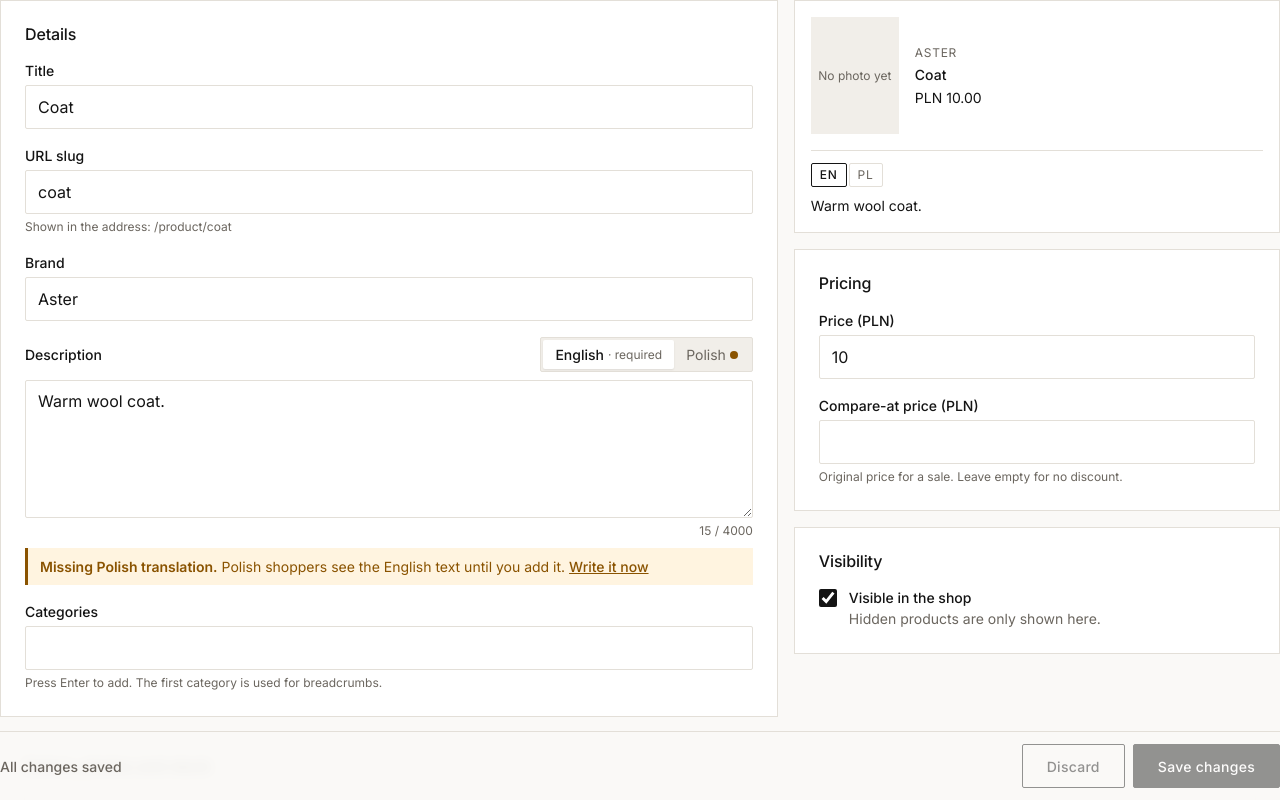
Test: ProductForm › description in English and Polish › shows the preview in the language of the open tab, falling back to English
Check: the text "Warm wool coat." is shown, box left=811, top=197, right=922, bottom=214
Step 1. Click the button "PL" → (866, 175), box left=849, top=163, right=882, bottom=187
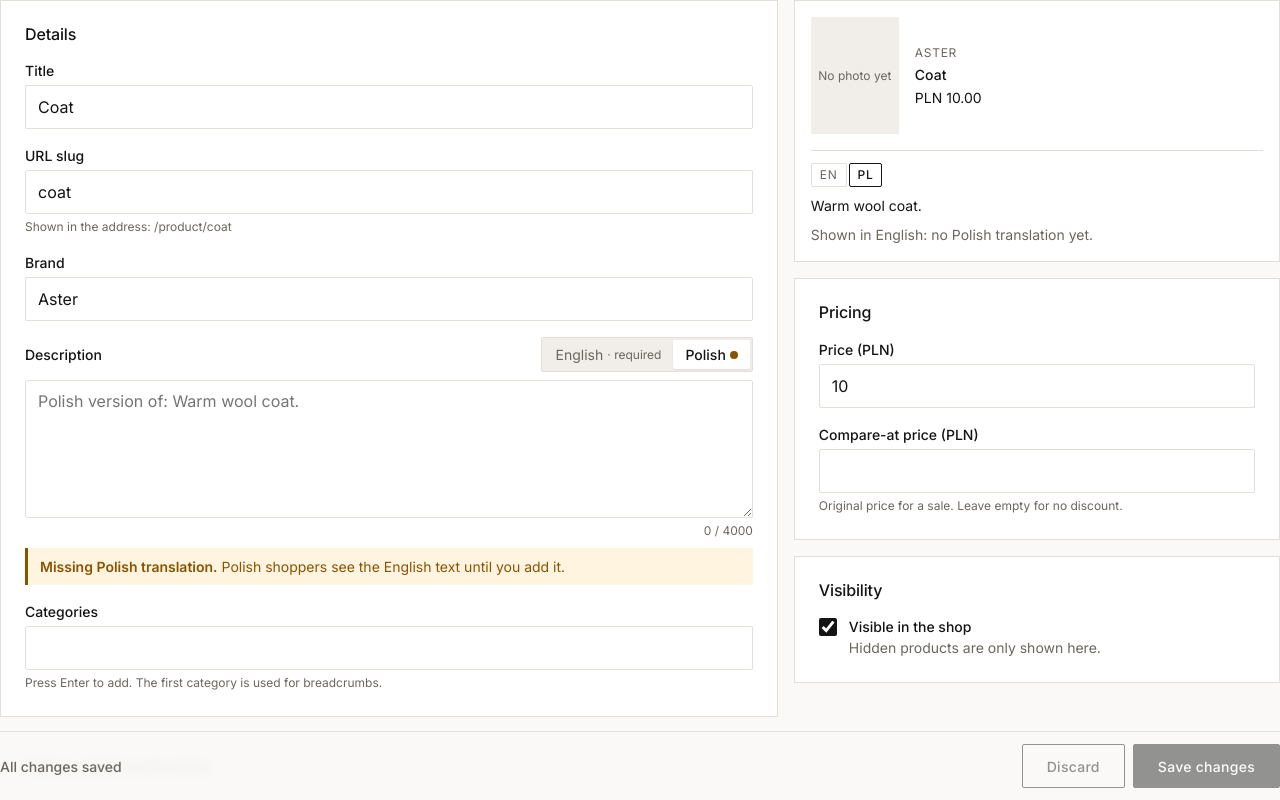
Check: the text "Shown in English: no Polish translation yet." is shown, box left=811, top=226, right=1093, bottom=243
Step 2. Type "Ciepły płaszcz." into the text box named "Description (Polish)" → (389, 449), box left=25, top=380, right=753, bottom=518
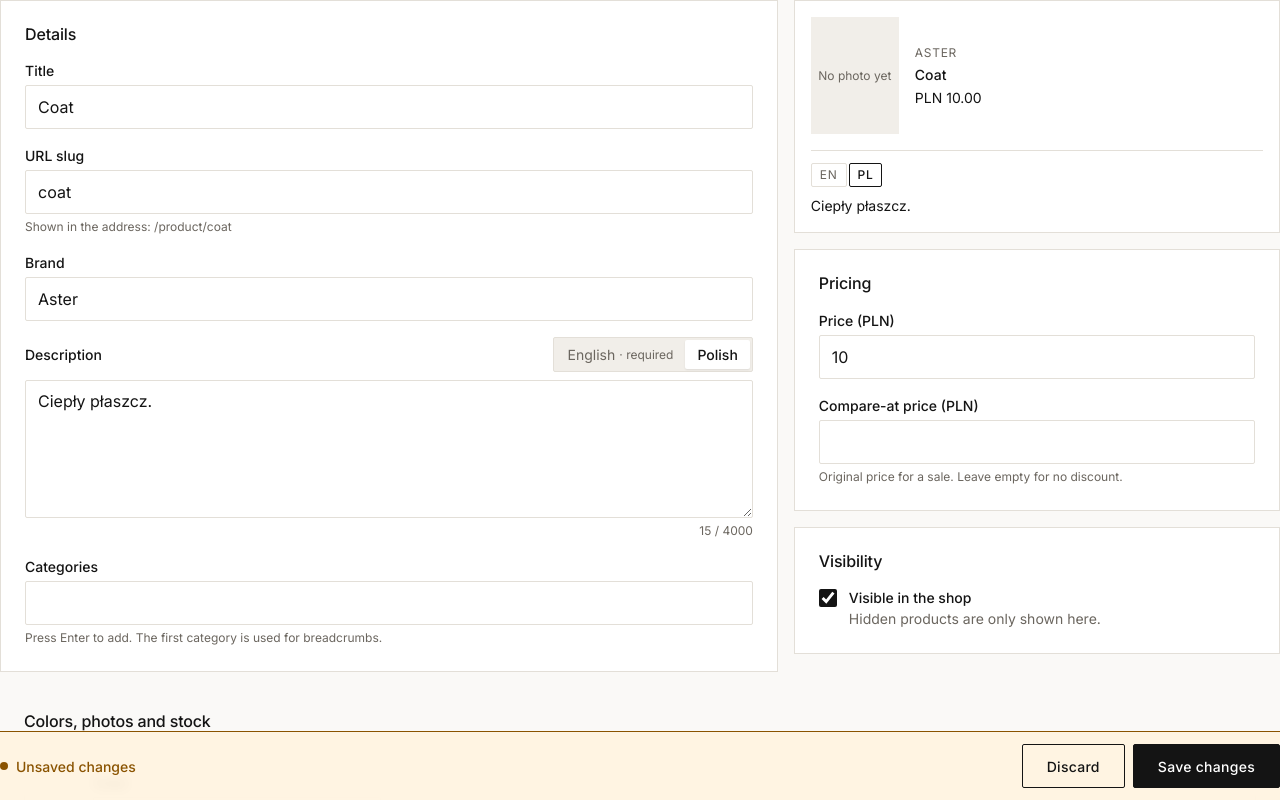
Check: the text "Ciepły płaszcz." is shown, box left=811, top=197, right=911, bottom=214
Check: the text "no Polish translation yet" is gone
